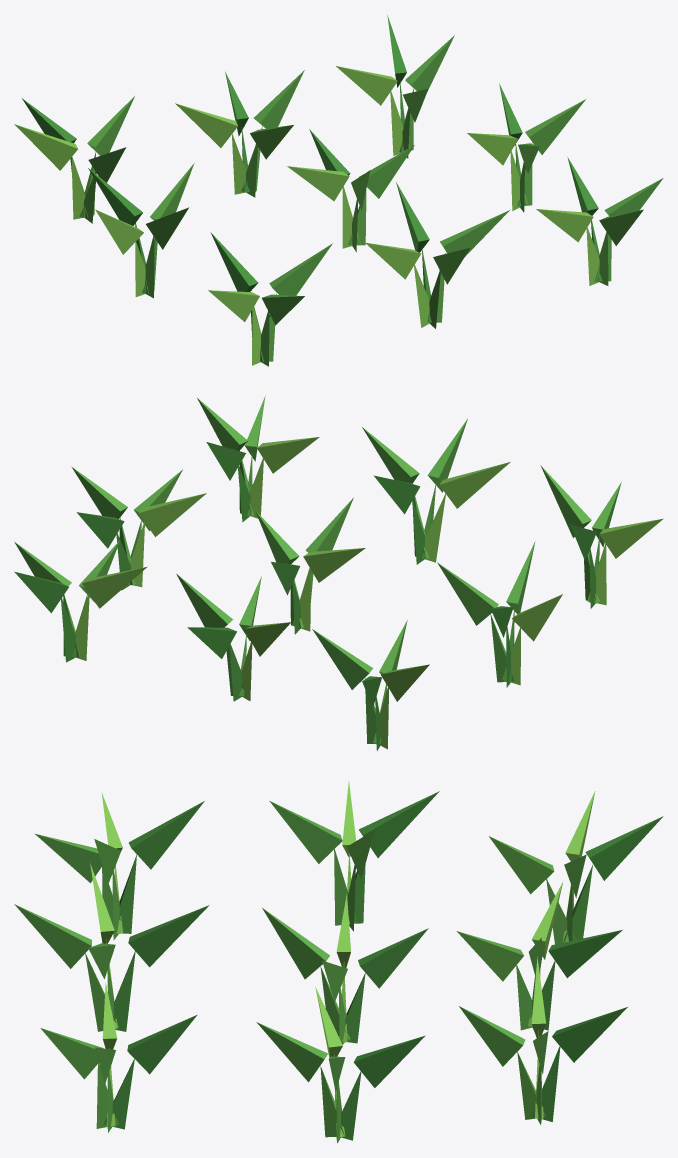
The model's file is carrot-2.glb.
3 renders of one model, top to bottom at view 1: azimuth 30°, elevation 25°; view 2: azimuth 150°, elevation 25°; view 3: azimuth 270°, elevation 25°, orthographic. The views are drawn at different scales.
Parts seen in each view (by area): view 1: carrot-2; view 2: carrot-2; view 3: carrot-2.
Part boxes in pixels (box(x1,y1,x2,y2)): carrot-2: box(14, 15, 663, 366); carrot-2: box(14, 396, 663, 750); carrot-2: box(14, 781, 663, 1143).
Bounding box in the file's own units: 0.711 × 0.159 × 0.7032.
Materials: 1 (1 with a texture image).
